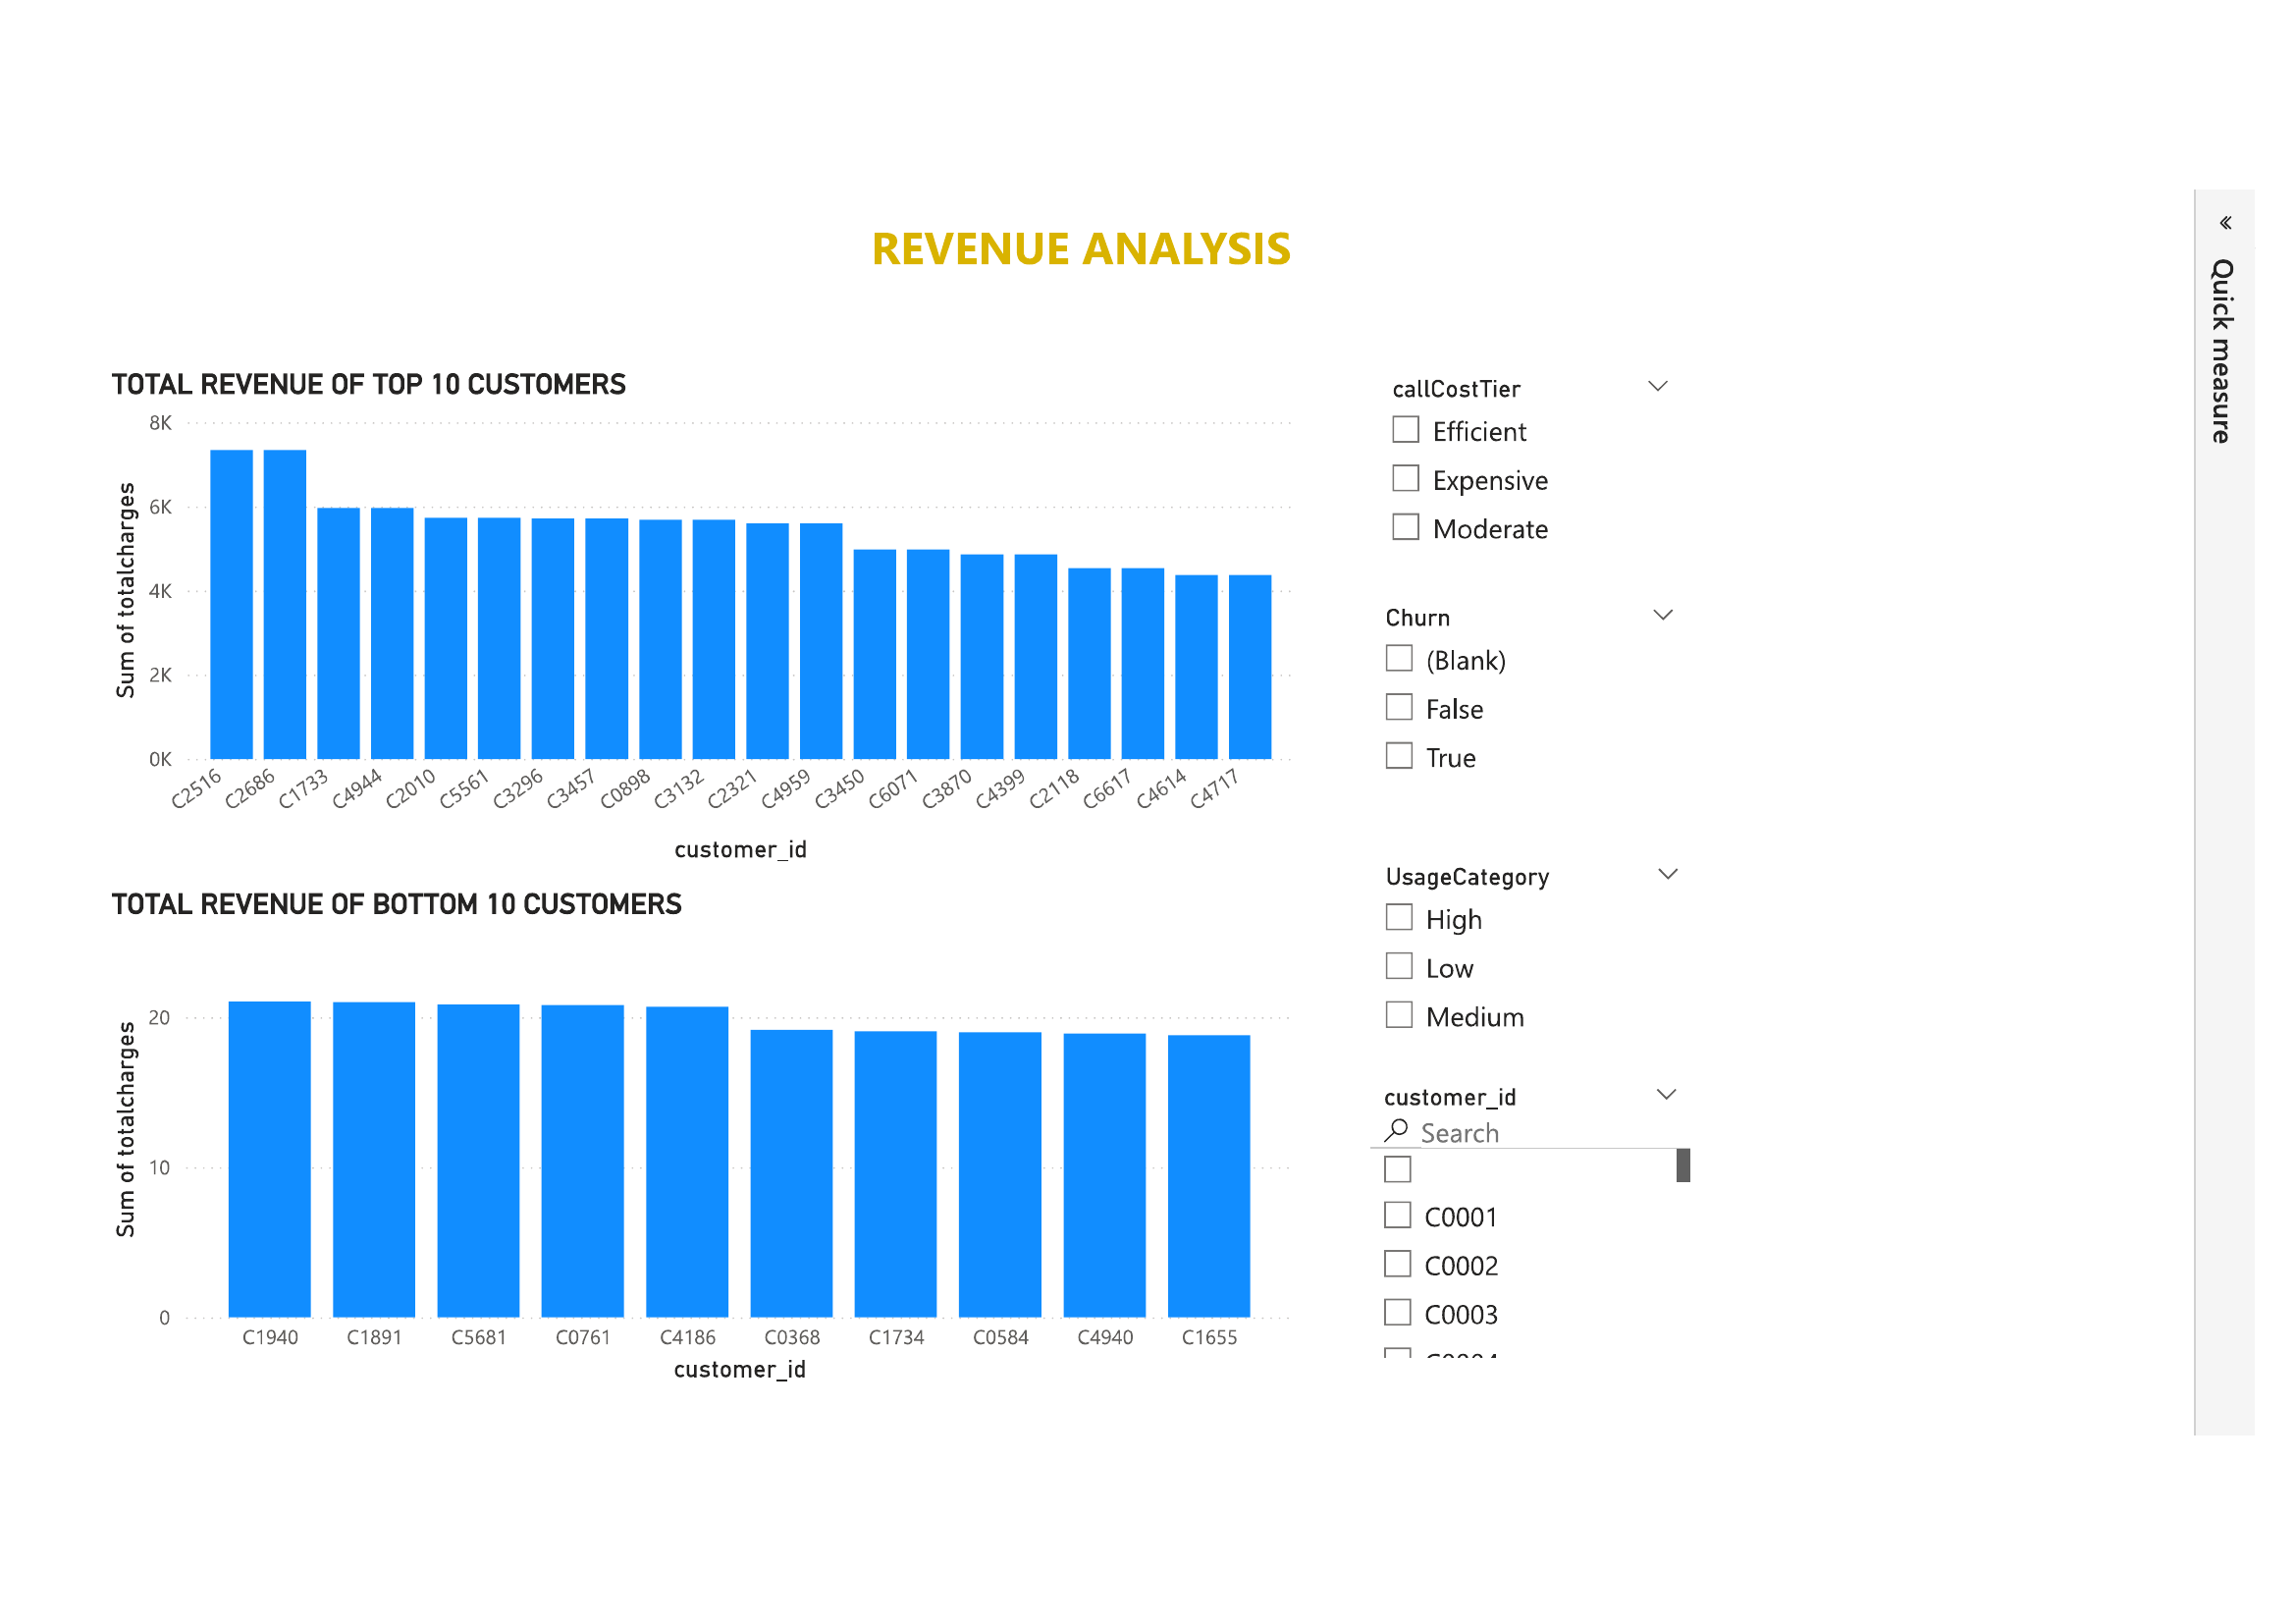

The page's visual inventory and layout, read from the dashboard file:
{"tool":"powerbi","page":{"name":"Revenue Analysis","canvas":[1280,720],"ordinal":2},"visuals":[{"type":"textbox","box":[447.5,0,347.5,70],"z":0},{"type":"columnChart","title":"TOTAL REVENUE OF TOP 10  CUSTOMERS","fields":{"Category":["project(dashboards).customer_id"],"Y":["Sum(project(dashboards).totalcharges)"]},"box":[36.2,95,712.5,300],"z":1000},{"type":"slicer","fields":{"Values":["project(dashboards).callCostTier"]},"box":[790,95,190,121.2],"z":2000},{"type":"slicer","fields":{"Values":["project(dashboards).Churn"]},"box":[786.2,231.2,196.2,145],"z":3000},{"type":"slicer","fields":{"Values":["project(dashboards).UsageCategory"]},"box":[786.2,385,200,121.2],"z":4000},{"type":"columnChart","title":"TOTAL REVENUE OF BOTTOM 10  CUSTOMERS","fields":{"Category":["project(dashboards).customer_id"],"Y":["Sum(project(dashboards).totalcharges)"]},"box":[36.2,403.8,712.5,300],"z":5000},{"type":"slicer","fields":{"Values":["project(dashboards).customer_id"]},"box":[785,516,200,174],"z":6000}]}

Visuals, with their boxes on the page's 1280x720 design canvas (x1, y1, x2, y2). These are canvas units, not pixel positions in the 2296x1624 screenshot, which may show the page scaled, cropped or inside an application window:
textbox: 448, 0, 795, 70
"TOTAL REVENUE OF TOP 10  CUSTOMERS" columnChart: 36, 95, 749, 395
slicer - project(dashboards).callCostTier: 790, 95, 980, 216
slicer - project(dashboards).Churn: 786, 231, 982, 376
slicer - project(dashboards).UsageCategory: 786, 385, 986, 506
"TOTAL REVENUE OF BOTTOM 10  CUSTOMERS" columnChart: 36, 404, 749, 704
slicer - project(dashboards).customer_id: 785, 516, 985, 690
